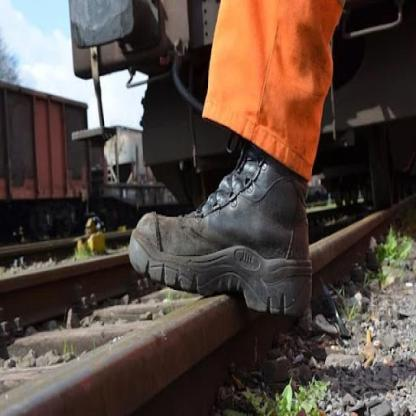bota: (121, 136, 318, 325)
